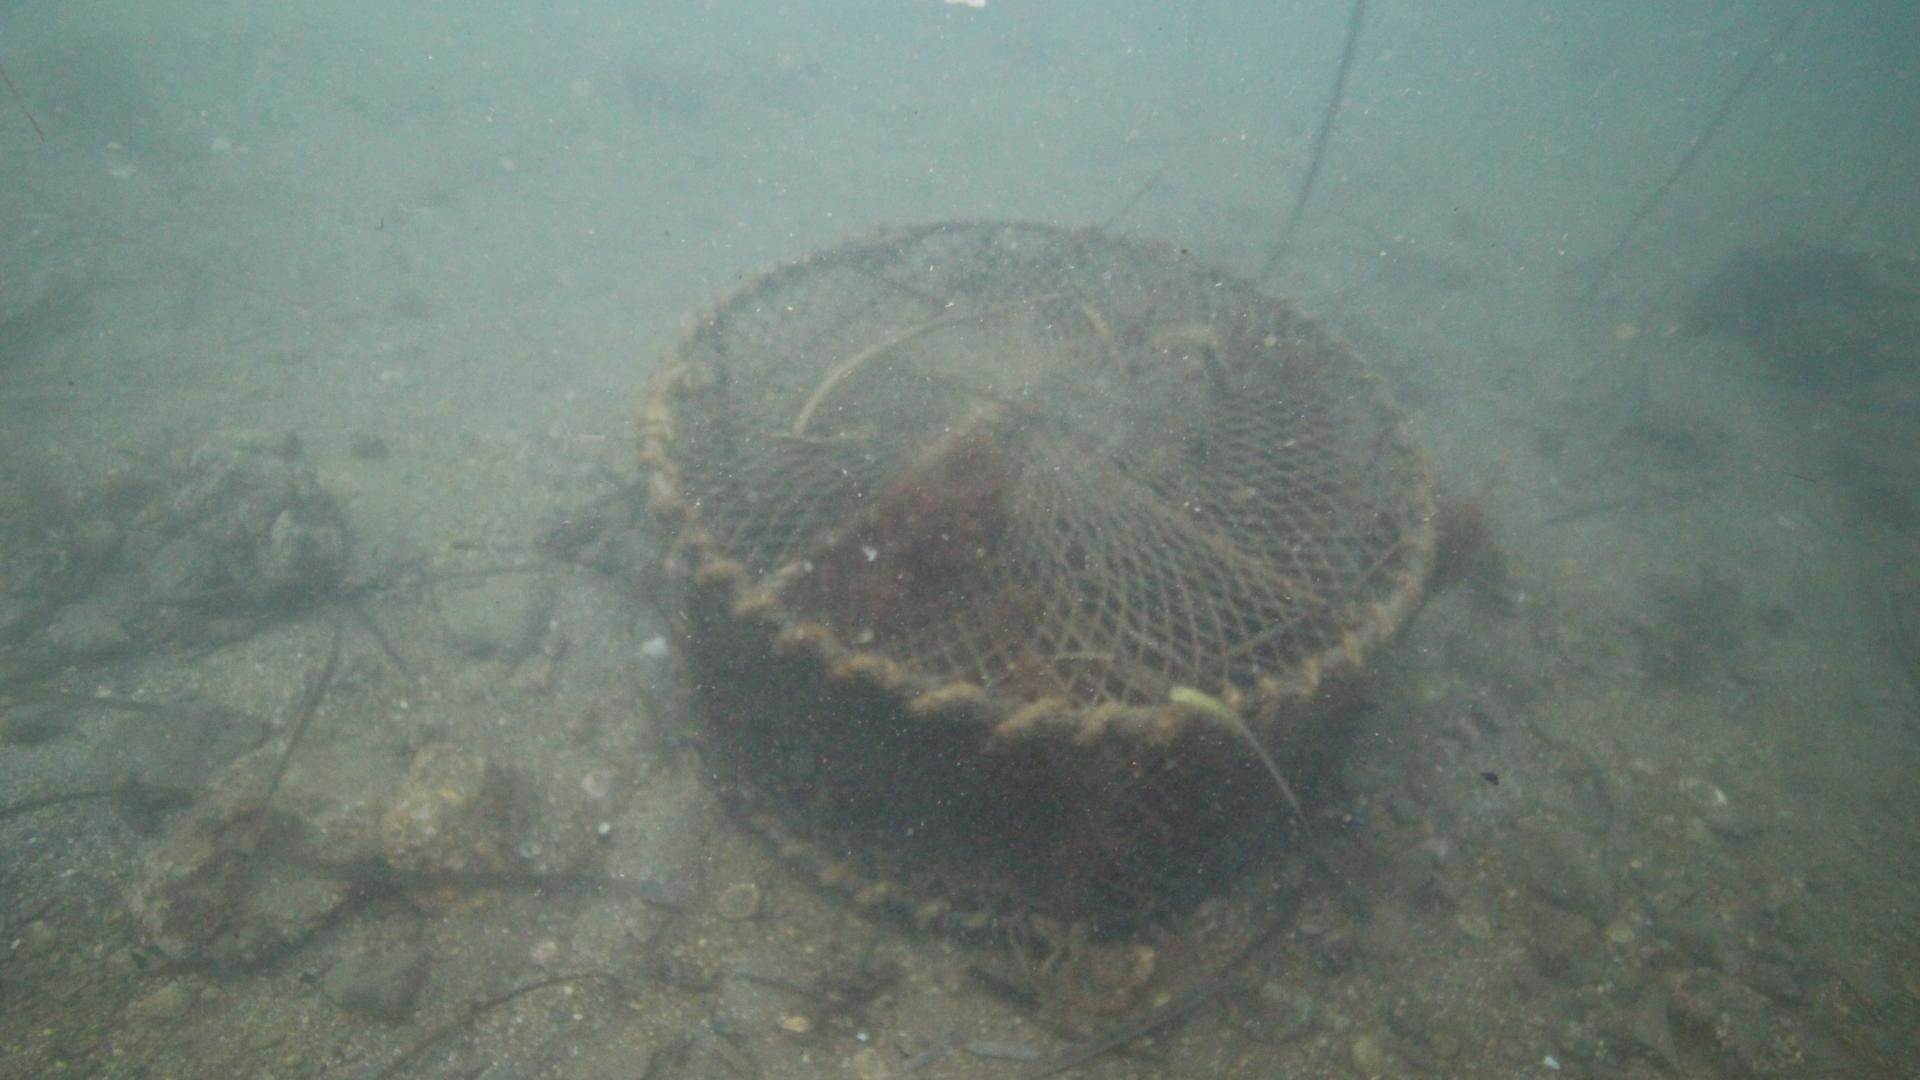circular fish trap: (632, 212, 1440, 945)
